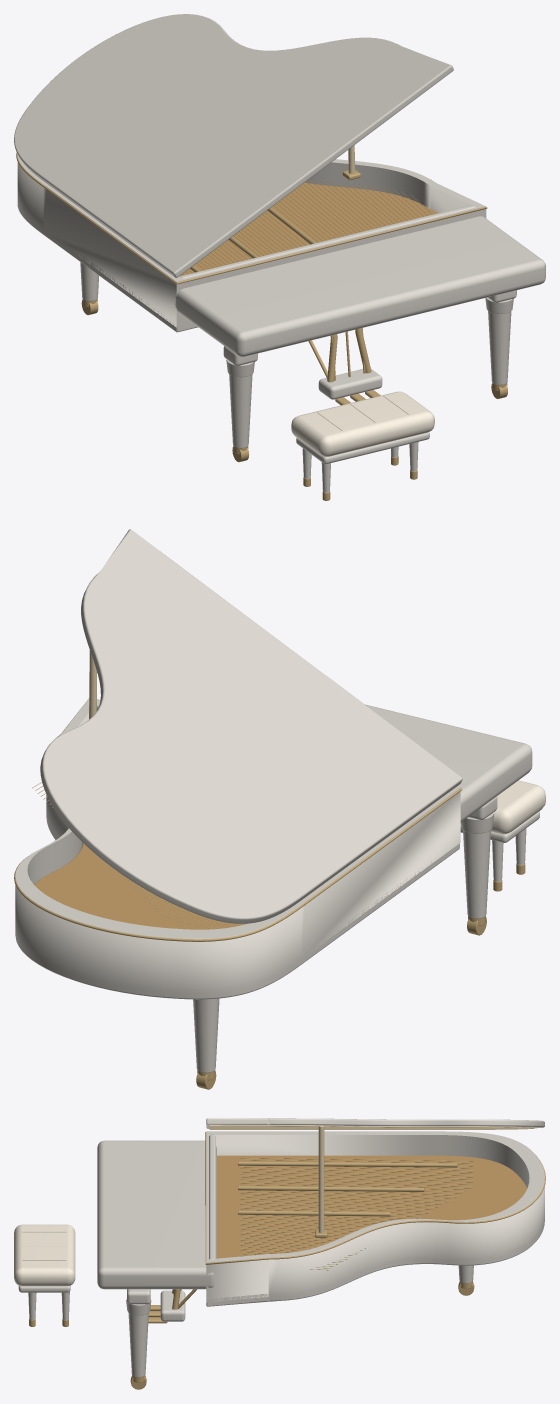
The model's file is piano-shell.glb.
3 renders of one model, top to bottom at view 1: azimuth 30°, elevation 25°; view 2: azimuth 150°, elevation 25°; view 3: azimuth 270°, elevation 25°, orthographic. The views are drawn at different scales.
Visible parts, largest first — view 1: Open ivory lid, Integrated keyboard apron, Sculpted hollow piano rim, Spruce soundboard, Bench cushion, Tapered piano leg, Fine rim moulding, Tapered piano leg.001, Underside, Pedal lyre foot, Keyboard fallboard, Bench frame; view 2: Open ivory lid, Sculpted hollow piano rim, Integrated keyboard apron, Spruce soundboard, Underside, Tapered piano leg, Bench cushion, Tapered piano leg.002, Fine rim moulding; view 3: Sculpted hollow piano rim, Spruce soundboard, Integrated keyboard apron, Bench cushion, Open ivory lid, Underside, Recessed lid lining, Fine rim moulding, Tapered piano leg.001, Cast frame strut, Cast frame strut.001, Keyboard fallboard (+5 smaller).
Part boxes in pixels (x1=…): Open ivory lid: x1=14, y1=14, x2=453, y2=277; Integrated keyboard apron: x1=175, y1=216, x2=545, y2=356; Sculpted hollow piano rim: x1=17, y1=154, x2=486, y2=327; Spruce soundboard: x1=180, y1=182, x2=438, y2=275; Bench cushion: x1=291, y1=391, x2=434, y2=456; Tapered piano leg: x1=229, y1=363, x2=252, y2=448; Fine rim moulding: x1=16, y1=152, x2=487, y2=284; Tapered piano leg.001: x1=488, y1=311, x2=511, y2=384; Underside: x1=17, y1=201, x2=198, y2=332; Pedal lyre foot: x1=318, y1=369, x2=382, y2=399; Keyboard fallboard: x1=180, y1=205, x2=475, y2=278; Bench frame: x1=296, y1=432, x2=429, y2=464; Open ivory lid: x1=40, y1=529, x2=462, y2=923; Sculpted hollow piano rim: x1=15, y1=698, x2=460, y2=993; Integrated keyboard apron: x1=365, y1=704, x2=532, y2=822; Spruce soundboard: x1=34, y1=843, x2=246, y2=929; Underside: x1=15, y1=812, x2=459, y2=999; Tapered piano leg: x1=463, y1=817, x2=490, y2=918; Bench cushion: x1=460, y1=780, x2=545, y2=834; Tapered piano leg.002: x1=193, y1=998, x2=219, y2=1072; Fine rim moulding: x1=14, y1=701, x2=461, y2=941; Sculpted hollow piano rim: x1=206, y1=1131, x2=544, y2=1302; Spruce soundboard: x1=217, y1=1155, x2=526, y2=1258; Integrated keyboard apron: x1=97, y1=1140, x2=216, y2=1289; Bench cushion: x1=14, y1=1224, x2=75, y2=1286; Open ivory lid: x1=206, y1=1118, x2=544, y2=1128; Underside: x1=206, y1=1219, x2=544, y2=1306; Recessed lid lining: x1=209, y1=1125, x2=534, y2=1129; Fine rim moulding: x1=205, y1=1132, x2=545, y2=1264; Tapered piano leg.001: x1=128, y1=1313, x2=148, y2=1377; Cast frame strut: x1=238, y1=1161, x2=457, y2=1167; Cast frame strut.001: x1=238, y1=1186, x2=424, y2=1191; Keyboard fallboard: x1=209, y1=1134, x2=215, y2=1259.
Size of the model in its own units: 3.58 by 3.34 by 6.06.
